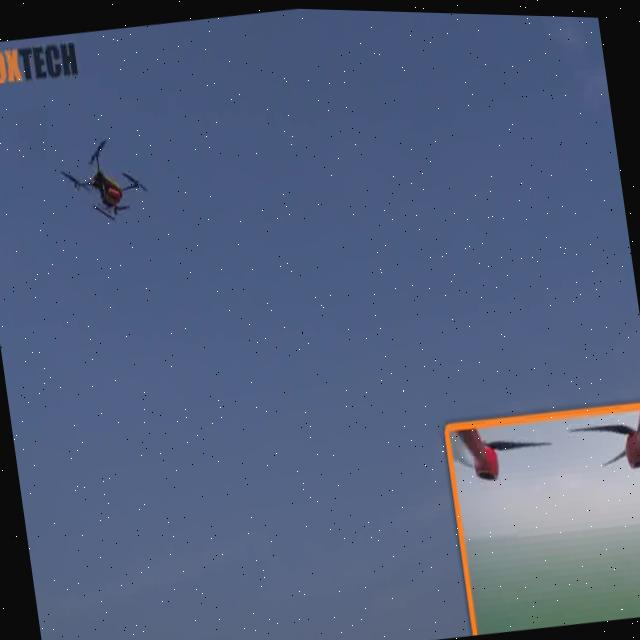drone: (54, 132, 156, 234)
